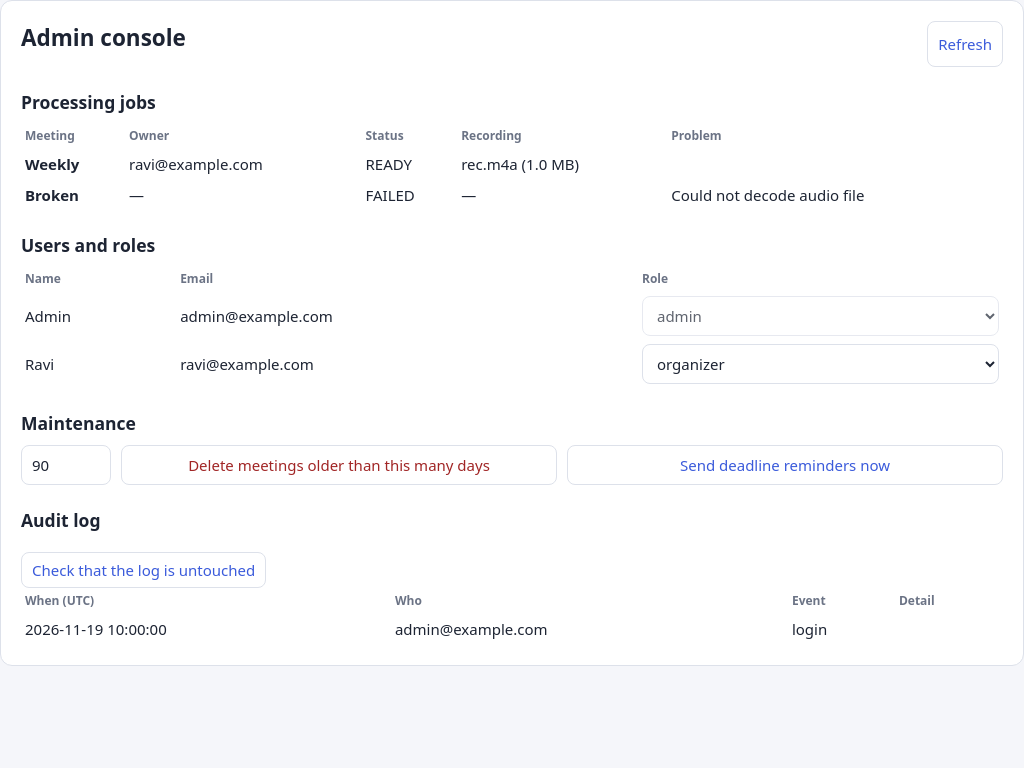
Test: AdminConsole › changes a role
Select "admin" in the dropdown named "Role of ravi@example.com" at (820, 364), box [642,344,999,384]
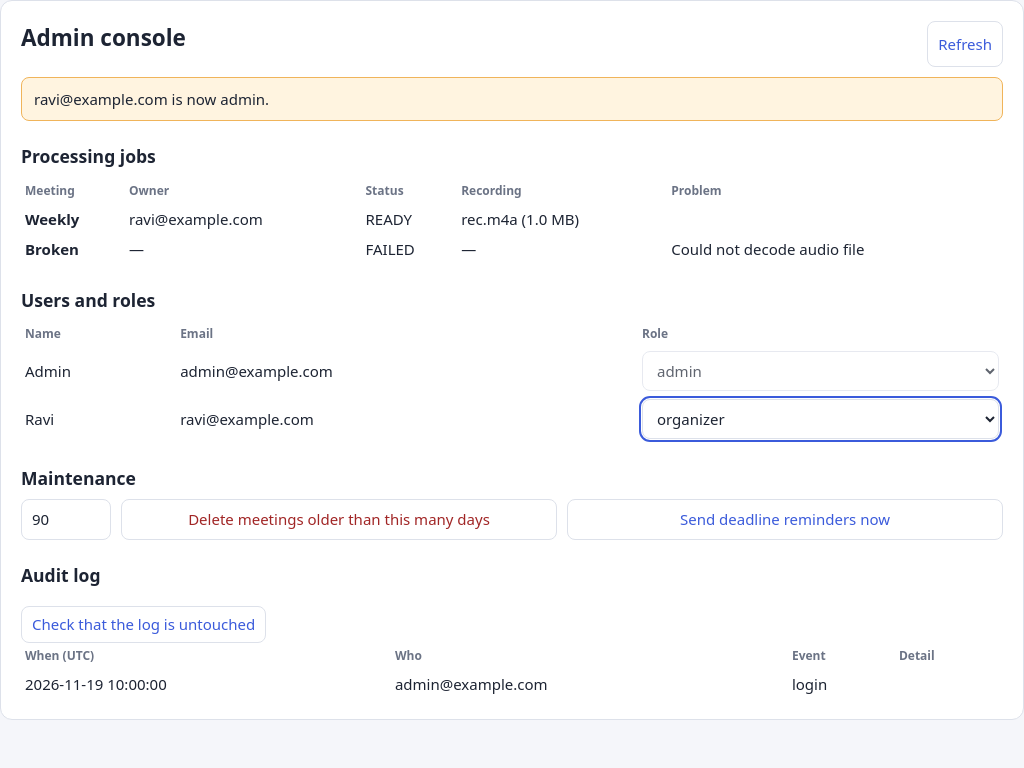
Expected: the message reads "ravi@example.com is now admin.", [34,89,269,109]
